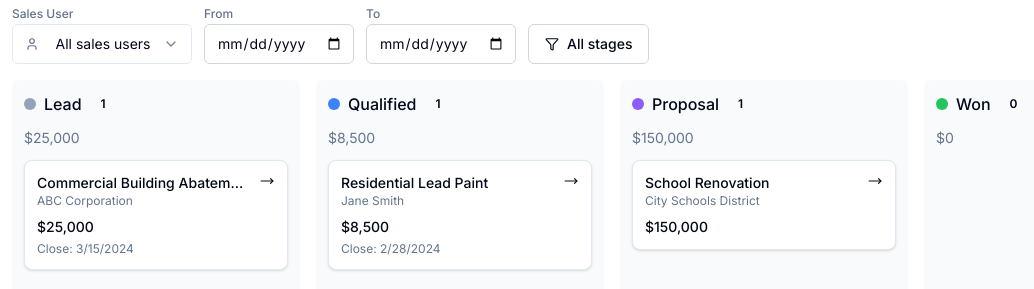
it: PipelineKanban › filters (PA4) › hides opportunities created before the "From" date
Expected: the text "Commercial Building Abatement" is shown, [37,173,247,193]
In the date field labelled "From": (279, 44) [204,24,354,64], type "2024-01-16"
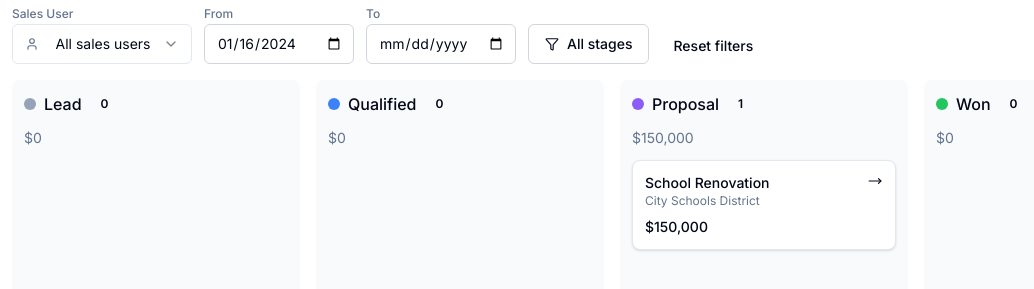
Expected: the text "School Renovation" is shown, [645,174,770,191]
Expected: the link "Commercial Building Abatement" is gone
Expected: the link "Residential Lead Paint" is gone
